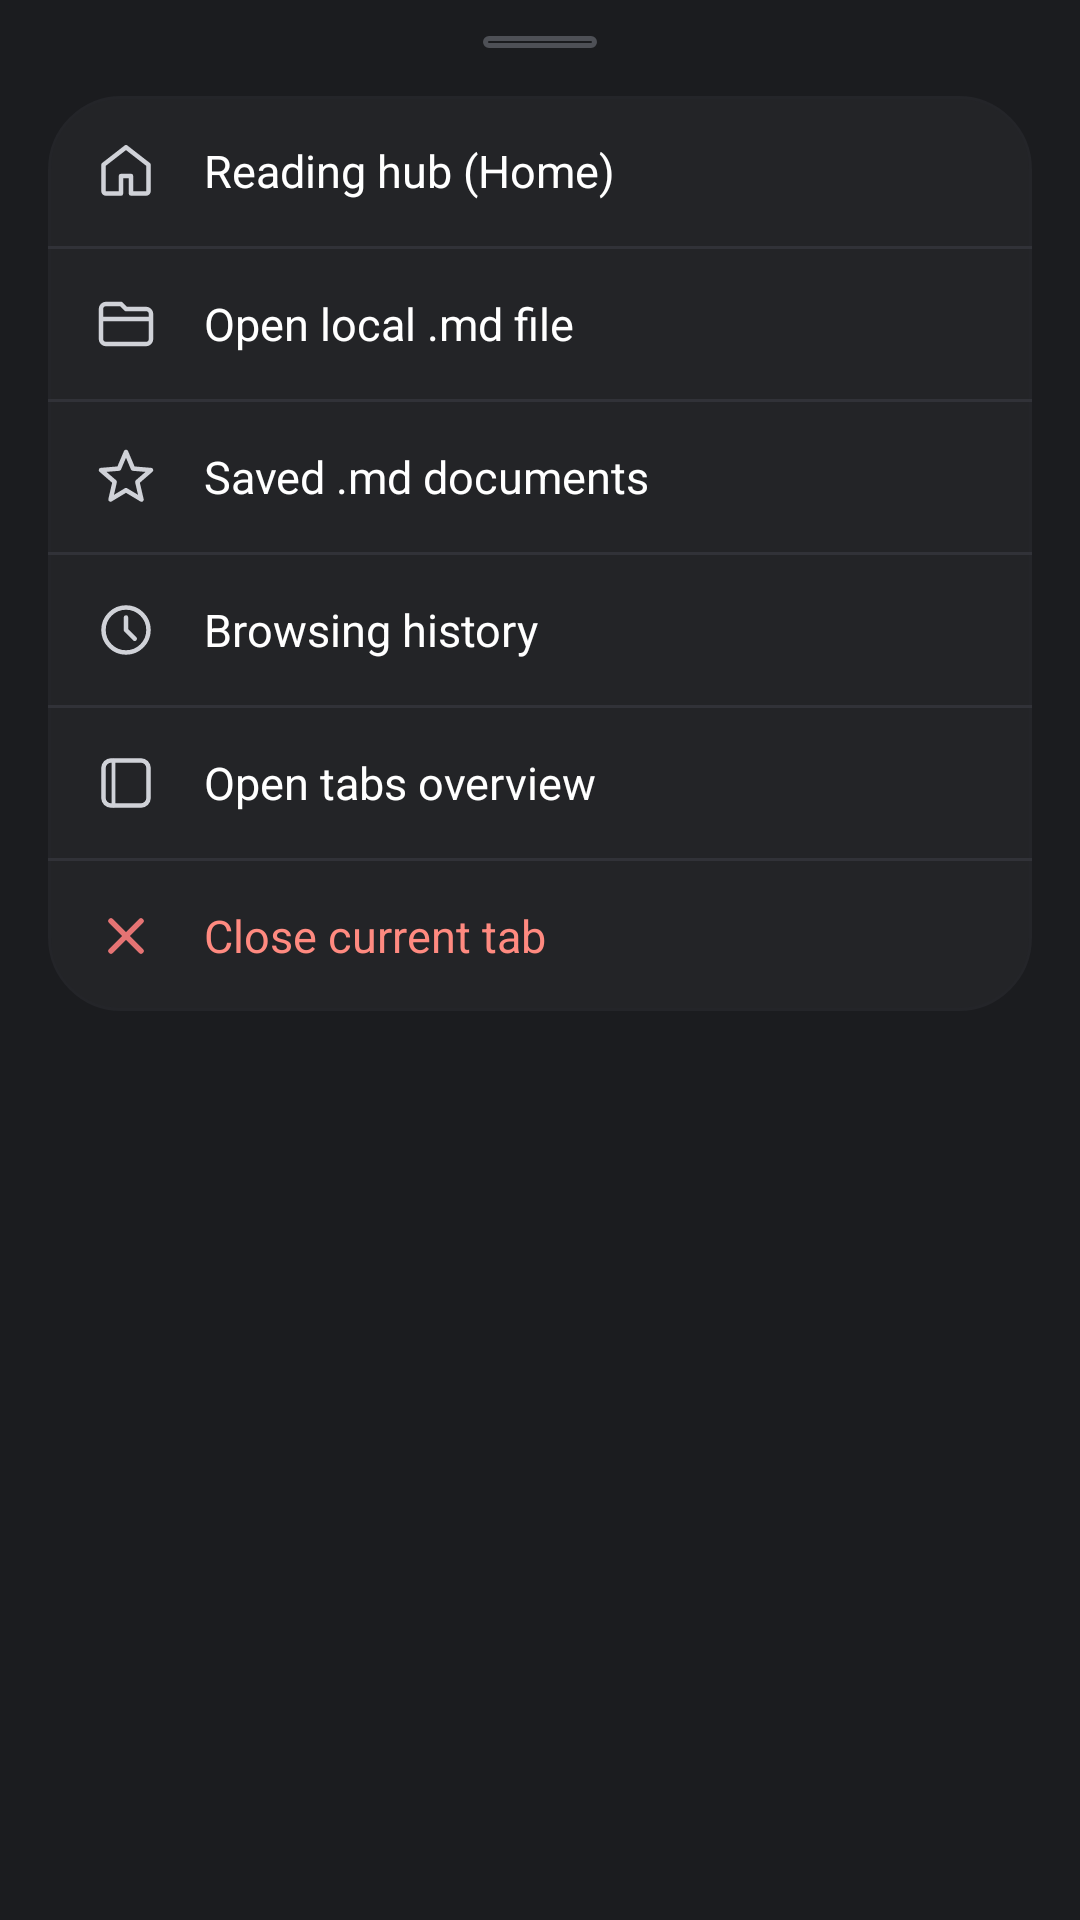

Icons on this 1080px x 1920px Android screen, each with the point to tap as point (x, y):
bookmark star: point (126, 475)
folder open: point (126, 324)
history clock: point (126, 630)
home nav: point (126, 170)
tabs square: point (126, 783)
